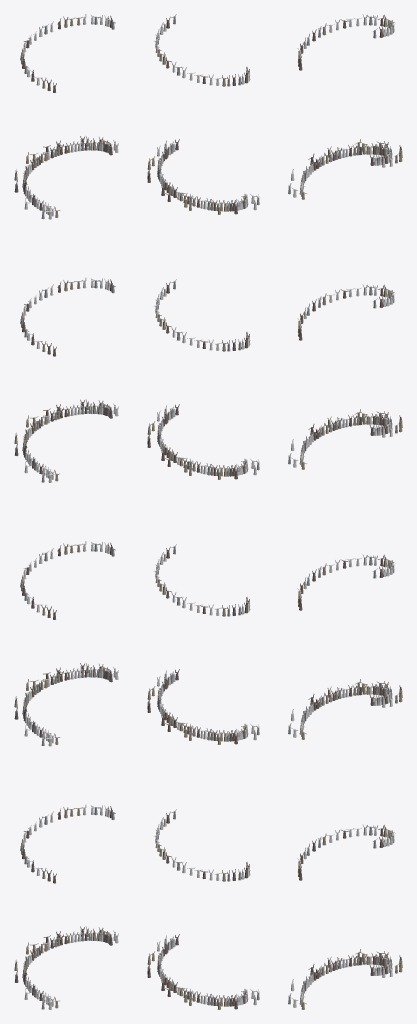
The model's file is Circle1Crowd3.obj.
3 views of the same model, side by side, from view 1: azimuth 30°, elevation 25°; view 2: azimuth 150°, elevation 25°; view 3: azimuth 330°, elevation 25° (orthographic). The views are drawn at different scales.
Visible parts, largest first — view 1: Circle1Crowd3; view 2: Circle1Crowd3; view 3: Circle1Crowd3.
Part boxes in pixels (<box>): Circle1Crowd3: <box>14,14,118,1009</box>; Circle1Crowd3: <box>147,14,259,1009</box>; Circle1Crowd3: <box>288,14,402,1009</box>.
Bounding box in the file's own units: 30.26 × 294 × 24.84.
1 material, 1 textured.
